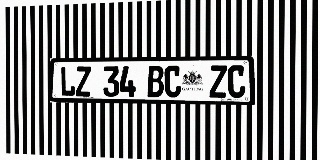3: (103, 66, 119, 97)
4: (120, 66, 136, 97)
B: (147, 66, 164, 97)
C: (228, 65, 245, 98), (164, 66, 181, 97)
L: (60, 66, 75, 96)
Z: (209, 65, 227, 98), (76, 66, 91, 97)
